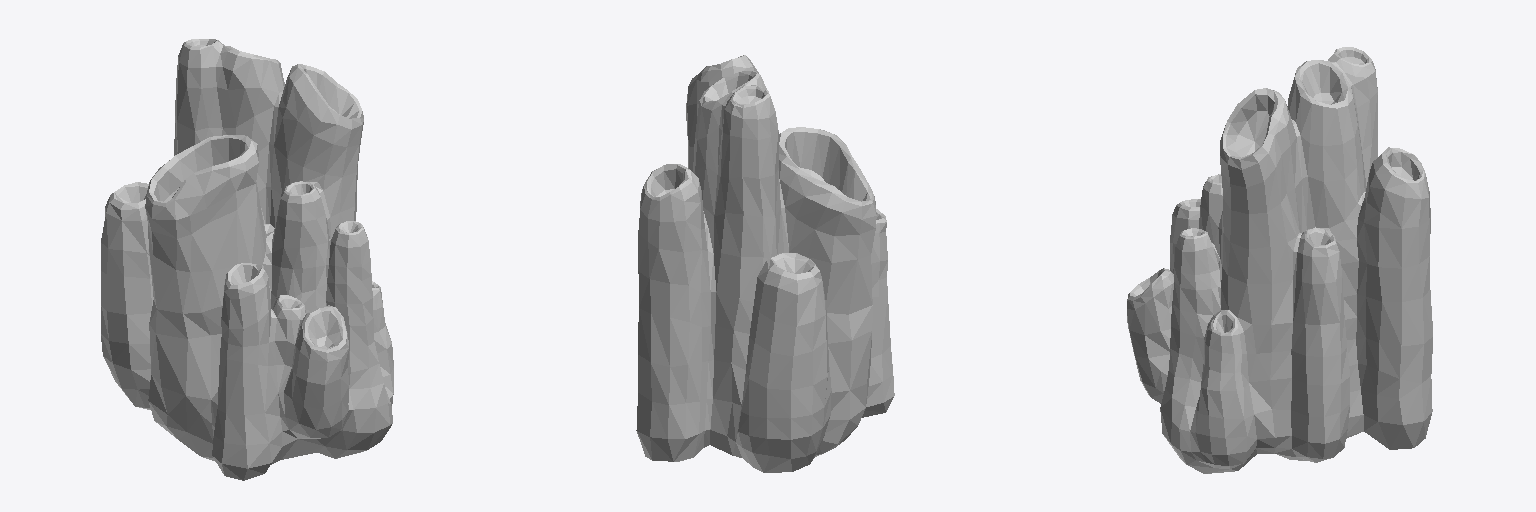
Rendered from Coral15G3.obj.
The picture shows the model from 3 angles: view 1: azimuth 30°, elevation 25°; view 2: azimuth 150°, elevation 25°; view 3: azimuth 270°, elevation 25°; orthographic projection.
Visible parts, largest first — view 1: Coral_15_1; view 2: Coral_15_1; view 3: Coral_15_1.
Part boxes in pixels (bbox=[...]): Coral_15_1: bbox=[101, 39, 393, 480]; Coral_15_1: bbox=[636, 55, 894, 472]; Coral_15_1: bbox=[1127, 47, 1432, 473].
Size of the model in its own units: 0.4412 by 0.773 by 0.5513.